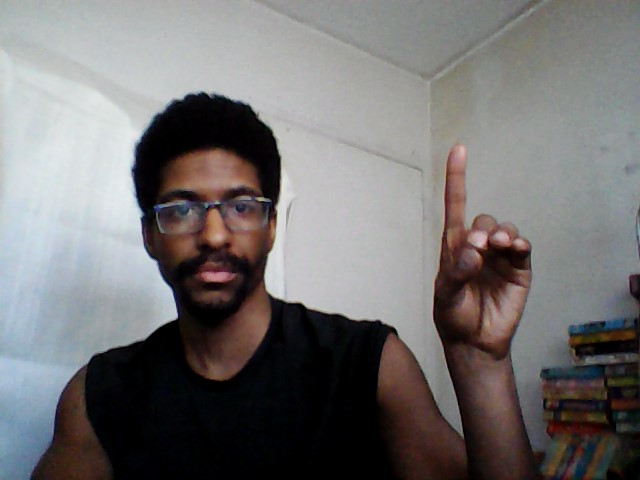d: (431, 136, 536, 361)
